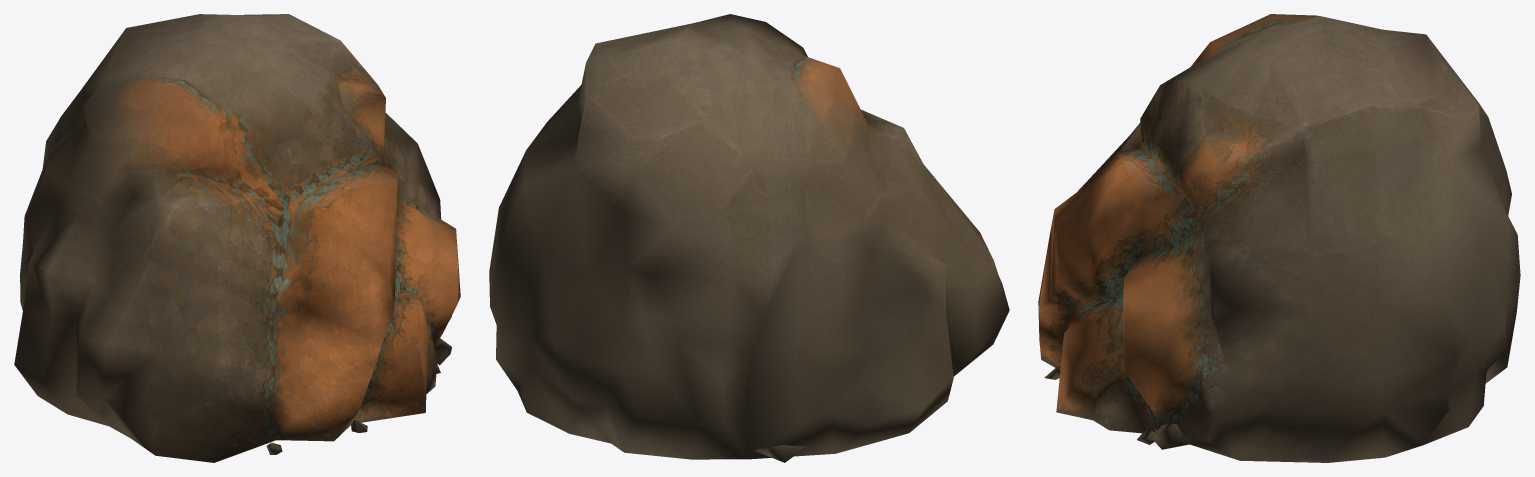
File: Meshy_AI_Copper_Vein_Boulder_0831110643_texture.fbx
The picture shows the model from 3 angles, left to right: view 1: azimuth 30°, elevation 25°; view 2: azimuth 150°, elevation 25°; view 3: azimuth 270°, elevation 25°; orthographic projection. The views are drawn at different scales.
Parts seen in each view (by area): view 1: mesh_node; view 2: mesh_node; view 3: mesh_node.
Part boxes in pixels (x1,y1,x2,y2): mesh_node: (14, 14, 460, 462); mesh_node: (489, 14, 1009, 462); mesh_node: (1038, 14, 1520, 462).
Bounding box in the file's own units: 100 × 80.08 × 99.8.
1 material, 1 textured.
